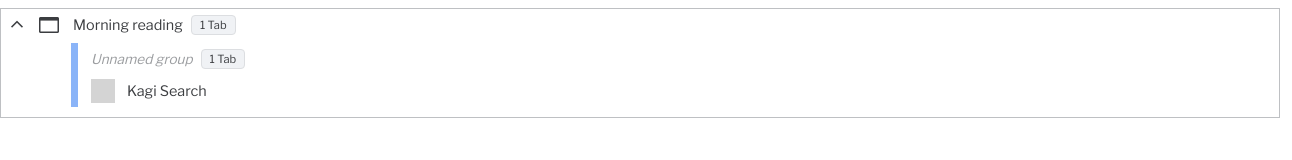
Test: renaming a Chrome tab group round-trips to the screen › a new name replaces the placeholder on screen
Click the button with aria-label "Rename group: Unnamed group" at point(140, 59), box [87, 43, 193, 75]
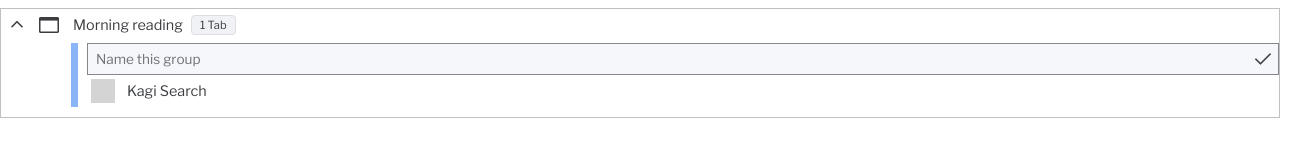
Type "Research" into the field named "Rename group: Unnamed group" at point(683, 59), box [87, 43, 1279, 75]
Then press Enter
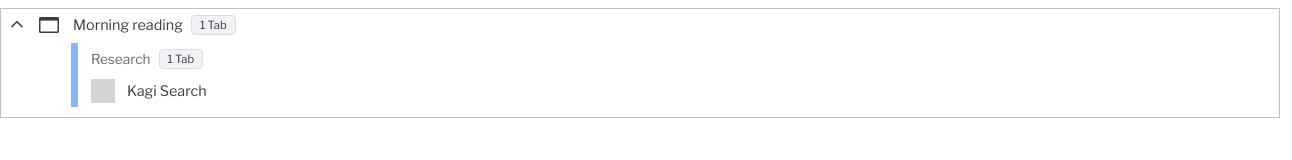
expect the button "Unnamed group" is not shown: met
expect the text "Research" is shown: met, box [91, 51, 150, 67]
